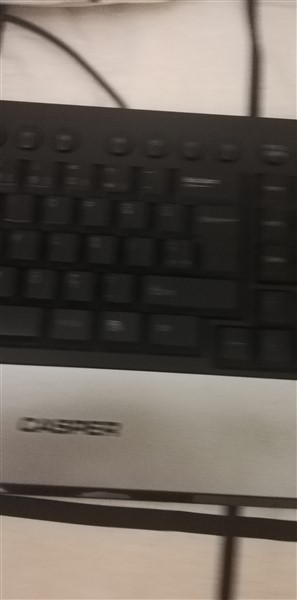klavye: (1, 100, 297, 511)
